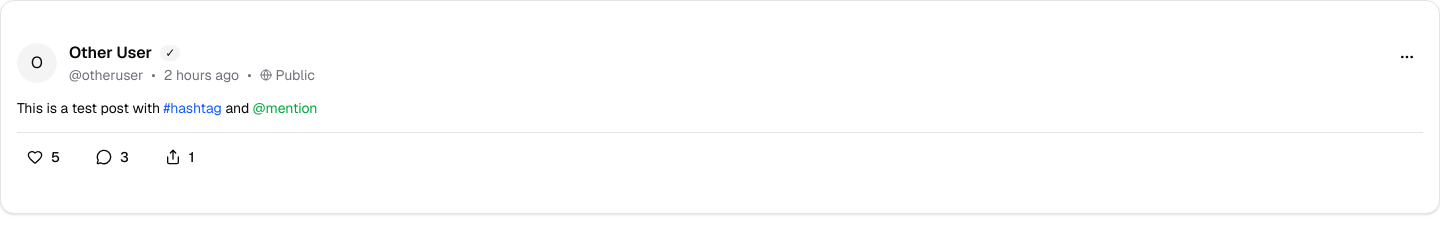
Scenario: PostCard › shows report option for other users posts
The width and height of the screenshot is (1440, 232).
Click the 1st button.
click(1407, 57)  # box [1391, 41, 1423, 73]
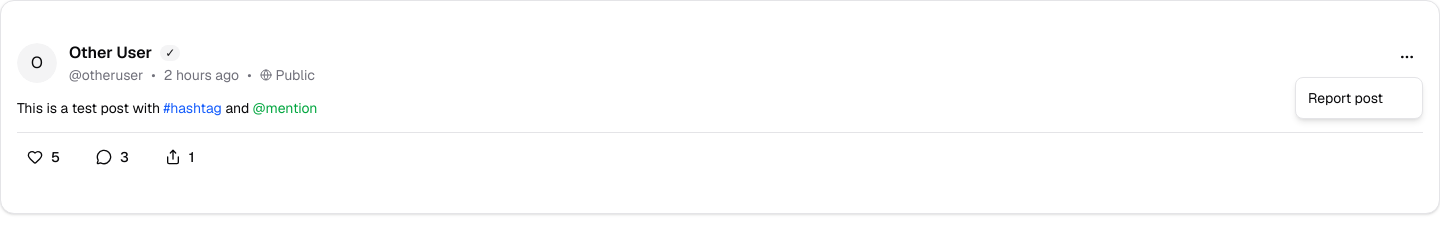
Check: the menu item "Report post" is shown, box [1308, 89, 1383, 107]
